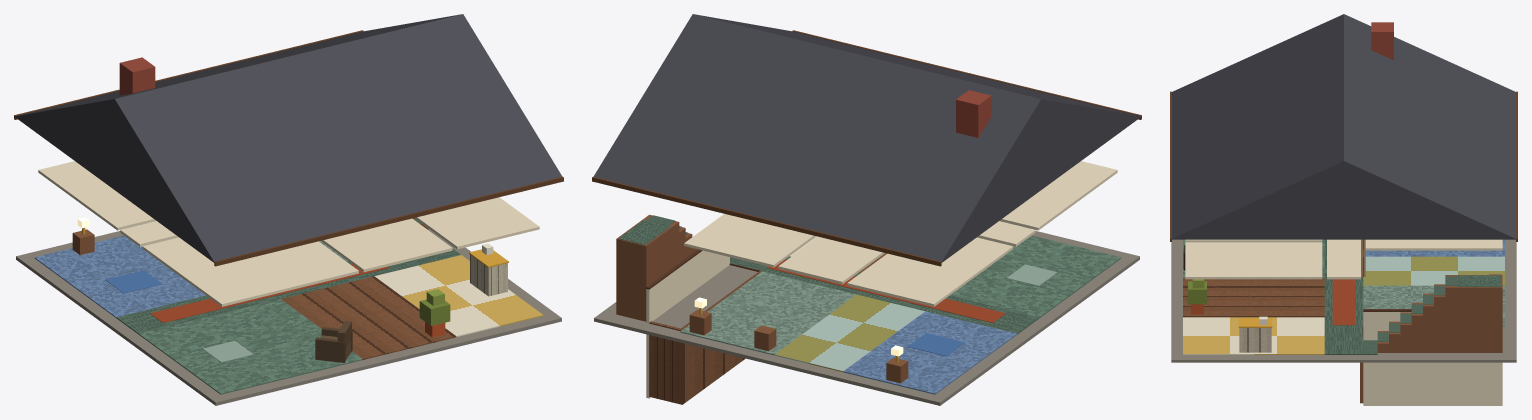
File: structure.glb
3 views of the same model, side by side, from view 1: azimuth 30°, elevation 25°; view 2: azimuth 150°, elevation 25°; view 3: azimuth 270°, elevation 25° (orthographic). The views are drawn at different scales.
Parts seen in each view (by area): view 1: Part1, Box2, Box1, Box3, Box4, Box10, Box6, Box5, Box7, Box11, Box8, Box20 (+10 smaller); view 2: Part1, Box1, Box14, Box2, Box10, Box12, Box11, Box15, Box36, Box3, Box13, Box38 (+14 smaller); view 3: Part1, Box38, Box1, Box7, Box4, Box6, Box12, Box36, Box8, Box15, Box14, Box9 (+12 smaller).
Boxes of the visible parts, x1=… form: Part1: x1=15, y1=14, x2=562, y2=263; Box2: x1=139, y1=299, x2=362, y2=394; Box1: x1=16, y1=228, x2=561, y2=405; Box3: x1=142, y1=237, x2=358, y2=306; Box4: x1=281, y1=276, x2=456, y2=359; Box10: x1=34, y1=235, x2=205, y2=317; Box6: x1=374, y1=255, x2=543, y2=337; Box5: x1=321, y1=218, x2=452, y2=272; Box7: x1=415, y1=197, x2=539, y2=249; Box11: x1=38, y1=161, x2=156, y2=230; Box8: x1=116, y1=249, x2=460, y2=334; Box20: x1=214, y1=176, x2=563, y2=266; Part1: x1=593, y1=14, x2=1141, y2=263; Box1: x1=594, y1=231, x2=1139, y2=405; Box14: x1=680, y1=271, x2=856, y2=355; Box2: x1=950, y1=235, x2=1121, y2=317; Box10: x1=843, y1=311, x2=1016, y2=394; Box12: x1=774, y1=294, x2=924, y2=371; Box11: x1=847, y1=237, x2=1013, y2=306; Box15: x1=684, y1=214, x2=815, y2=267; Box36: x1=616, y1=219, x2=672, y2=321; Box3: x1=999, y1=161, x2=1117, y2=230; Box13: x1=778, y1=237, x2=884, y2=284; Box38: x1=646, y1=250, x2=729, y2=398; Part1: x1=1171, y1=14, x2=1516, y2=239; Box38: x1=1363, y1=312, x2=1502, y2=405; Box1: x1=1171, y1=239, x2=1516, y2=362; Box7: x1=1185, y1=242, x2=1322, y2=279; Box4: x1=1183, y1=277, x2=1324, y2=317; Box6: x1=1183, y1=317, x2=1324, y2=354; Box12: x1=1363, y1=256, x2=1504, y2=285; Box36: x1=1456, y1=275, x2=1502, y2=352; Box8: x1=1324, y1=239, x2=1363, y2=354; Box15: x1=1365, y1=239, x2=1502, y2=250; Box14: x1=1363, y1=285, x2=1504, y2=326; Box9: x1=1327, y1=239, x2=1360, y2=279.
Bounding box in the file's own units: 10.8 × 9.25 × 10.8.
33 materials, 9 textured.
